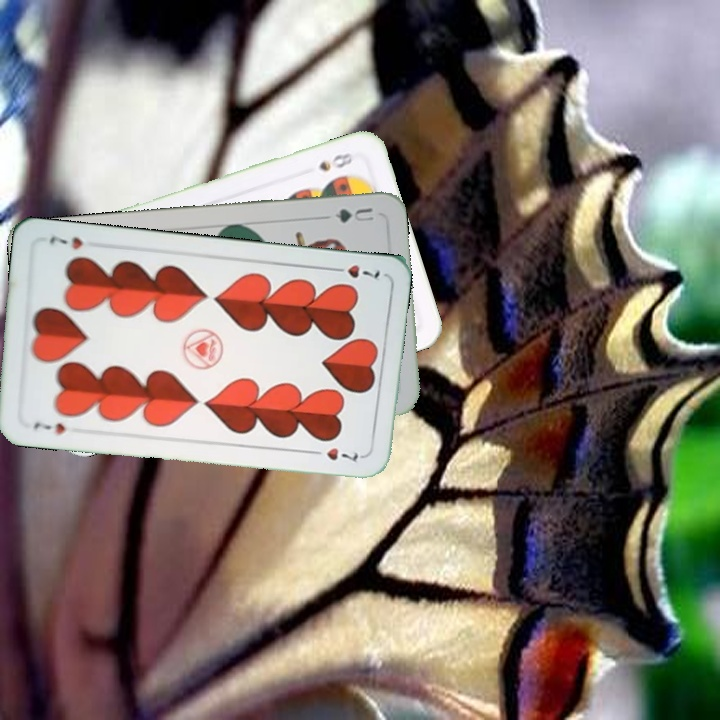GU: (330, 203, 377, 226)
H7: (326, 261, 383, 283), (29, 418, 68, 437)
S8: (315, 148, 359, 174)
